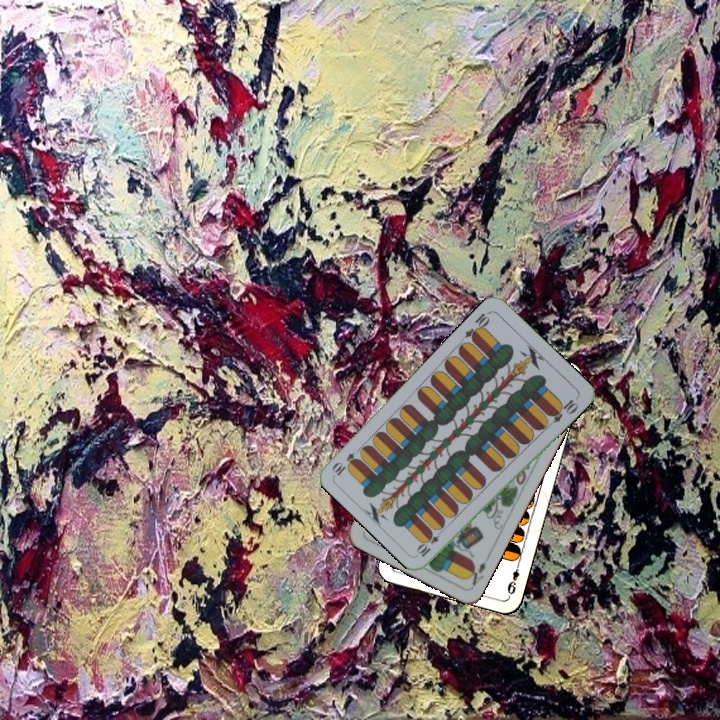E10: (461, 307, 493, 344), (413, 524, 446, 559)
E9: (503, 559, 522, 599)
EA: (463, 552, 492, 588)
